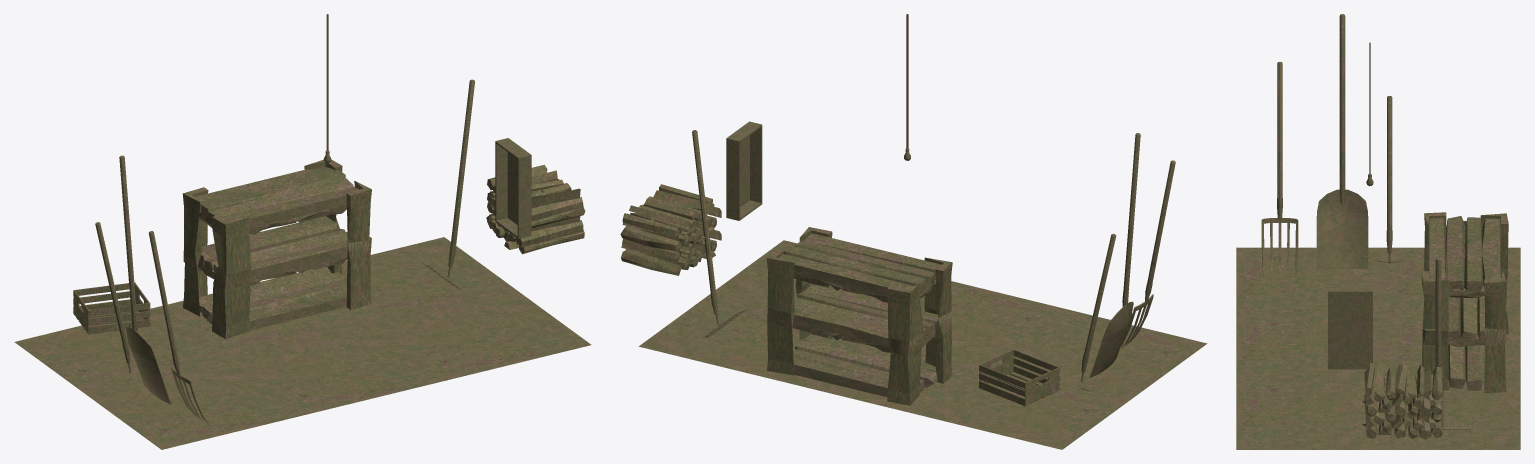
The model's file is assets.fbx.
The picture shows the model from 3 angles, left to right: view 1: azimuth 30°, elevation 25°; view 2: azimuth 150°, elevation 25°; view 3: azimuth 270°, elevation 25°; orthographic projection. The views are drawn at different scales.
Visible parts, largest first — view 1: Ground.014, Ground.005, Ground.013, Ground.012, Ground.006, Ground.008, Ground.009, Ground.011, Ground.007; view 2: Ground.014, Ground.005, Ground.013, Ground.012, Ground.006, Ground.008, Ground.009, Ground.011, Ground.007; view 3: Ground.014, Ground.005, Ground.013, Ground.008, Ground.012, Ground.009, Ground.007, Ground.011, Ground.010.
Part boxes in pixels (x1,y1,x2,y2): Ground.014: (14, 237, 591, 449); Ground.005: (182, 159, 371, 339); Ground.013: (486, 164, 585, 254); Ground.012: (495, 138, 531, 238); Ground.006: (73, 282, 150, 334); Ground.008: (119, 155, 171, 404); Ground.009: (148, 231, 208, 423); Ground.011: (418, 79, 474, 289); Ground.007: (95, 222, 131, 382); Ground.014: (639, 240, 1207, 449); Ground.005: (766, 227, 952, 405); Ground.013: (620, 184, 721, 275); Ground.012: (726, 121, 762, 220); Ground.006: (978, 349, 1060, 406); Ground.008: (1089, 133, 1140, 377); Ground.009: (1121, 160, 1175, 348); Ground.011: (692, 130, 747, 337); Ground.007: (1080, 233, 1116, 391); Ground.014: (1236, 247, 1520, 449); Ground.005: (1421, 212, 1508, 393); Ground.013: (1362, 360, 1444, 439); Ground.008: (1316, 14, 1368, 269); Ground.012: (1328, 285, 1372, 369); Ground.009: (1261, 62, 1298, 276); Ground.007: (1374, 96, 1404, 263); Ground.011: (1406, 257, 1471, 429); Ground.010: (1366, 42, 1373, 186).
Size of the model in its own units: 5.57 by 3.57 by 2.89.
